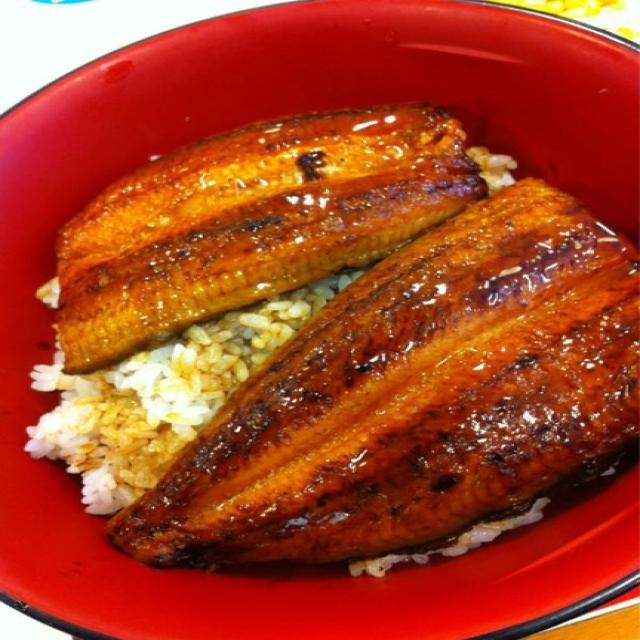熟制海鲜: (6, 8, 635, 629)
